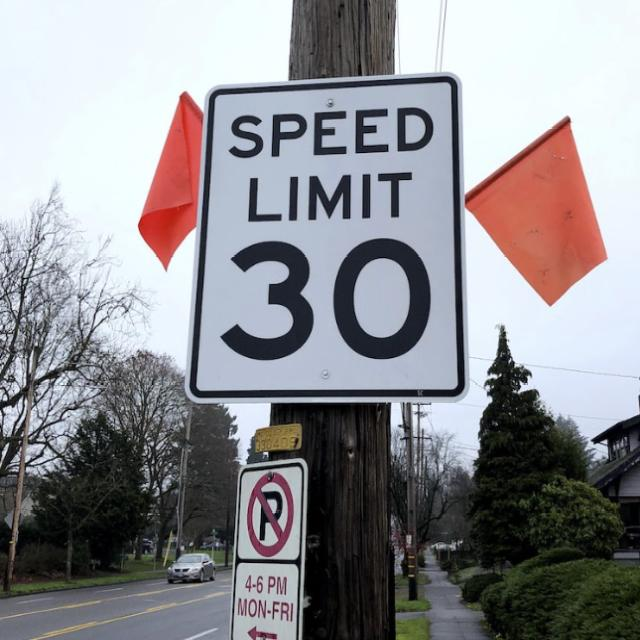speedLimit30: (210, 93, 452, 388)
